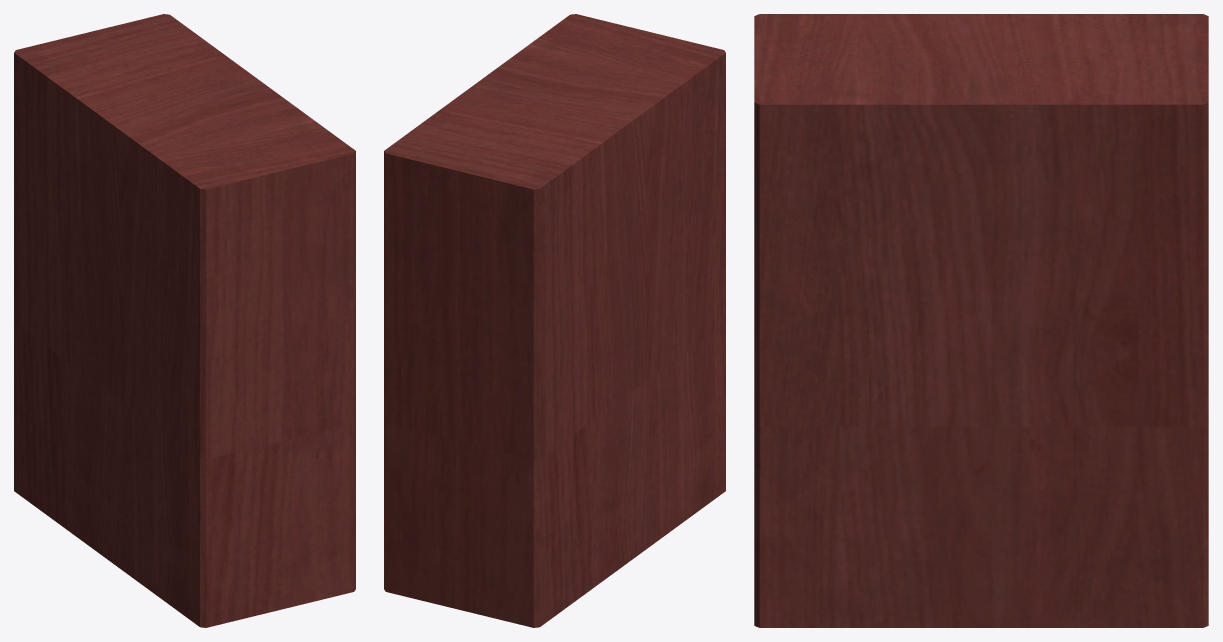
File: SM_SMM_PillarB.fbx
The picture shows the model from 3 angles, left to right: view 1: azimuth 30°, elevation 25°; view 2: azimuth 150°, elevation 25°; view 3: azimuth 270°, elevation 25°; orthographic projection. The views are drawn at different scales.
Parts seen in each view (by area): view 1: SM_SMM_PillarB; view 2: SM_SMM_PillarB; view 3: SM_SMM_PillarB.
Part boxes in pixels (x1,y1,x2,y2): SM_SMM_PillarB: (14,14,355,627); SM_SMM_PillarB: (384,14,725,627); SM_SMM_PillarB: (754,14,1208,627).
Size of the model in its own units: 6.16 by 13.05 by 16.57.
Materials: 1 (1 with a texture image).
